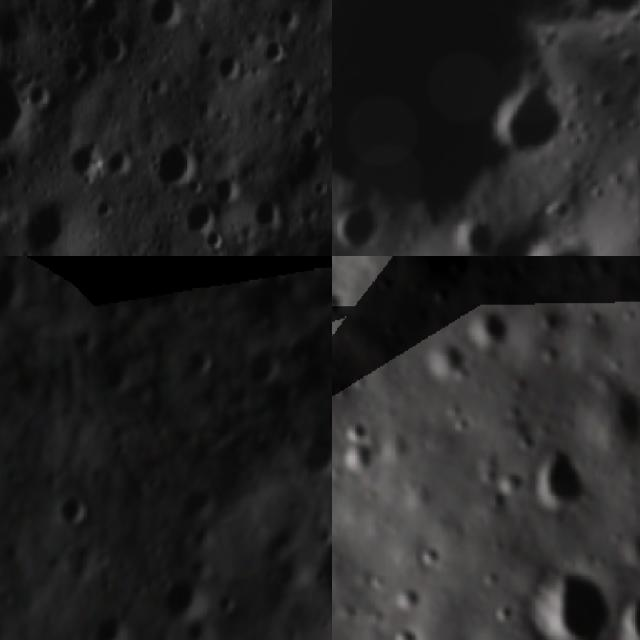crater: (332, 0, 633, 256), (475, 48, 609, 186), (519, 565, 614, 640), (332, 181, 409, 256), (526, 447, 599, 521), (577, 385, 640, 454), (512, 213, 607, 256), (372, 256, 481, 286), (462, 306, 512, 357), (420, 338, 470, 384), (332, 439, 382, 482), (605, 582, 640, 640), (154, 574, 198, 620), (294, 438, 332, 484), (248, 190, 292, 229), (178, 198, 220, 238), (164, 138, 198, 187), (336, 414, 383, 449), (46, 491, 91, 524), (387, 577, 424, 617), (494, 465, 531, 503), (73, 139, 113, 174), (412, 536, 447, 573), (181, 345, 213, 384), (261, 34, 297, 68), (85, 611, 125, 640), (96, 30, 124, 70), (318, 525, 332, 605), (216, 51, 244, 85), (213, 585, 241, 618), (151, 0, 186, 26), (26, 77, 48, 116), (488, 596, 514, 627), (540, 307, 566, 338), (388, 620, 425, 640), (332, 286, 348, 326), (479, 566, 500, 591), (241, 242, 276, 256), (322, 399, 332, 427)
